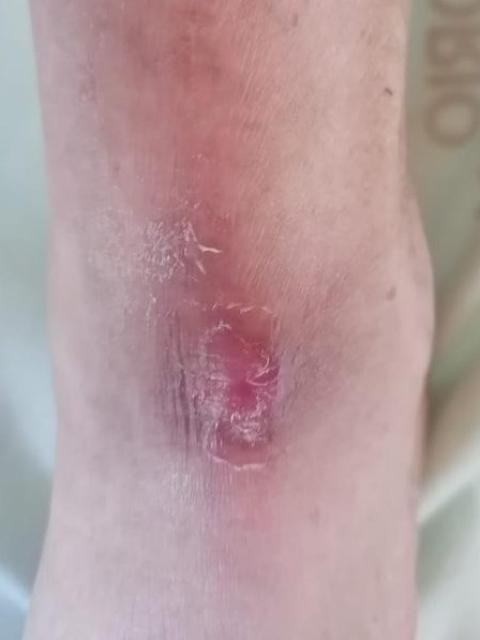wound: (201, 318, 284, 469)
